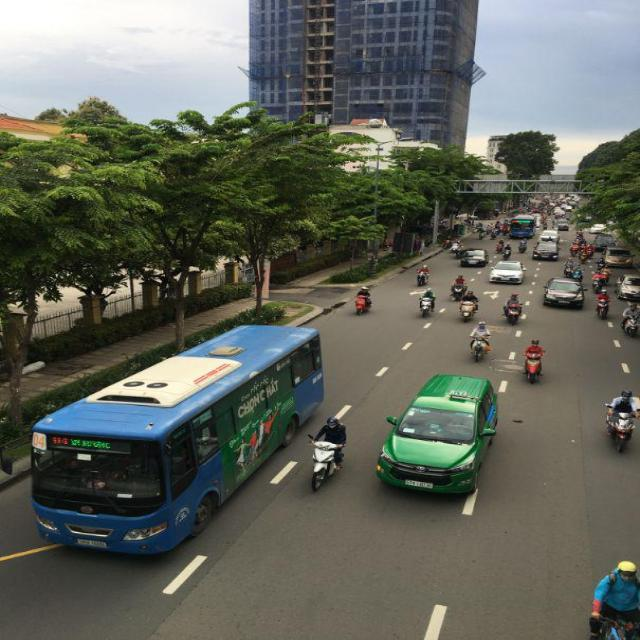bus: (26, 320, 325, 559), (507, 216, 540, 239)
car: (377, 374, 502, 499), (542, 278, 584, 310), (490, 262, 526, 286), (604, 247, 635, 268), (616, 277, 640, 303), (533, 238, 560, 260), (459, 249, 487, 269)
motorcycle: (309, 442, 344, 491), (606, 401, 637, 450), (469, 323, 494, 363), (524, 352, 546, 385), (503, 294, 523, 323), (460, 296, 480, 322), (471, 338, 491, 362), (623, 307, 639, 335), (357, 288, 373, 314), (418, 294, 434, 317)
